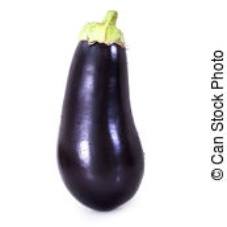eggplant: (56, 35, 145, 212)
